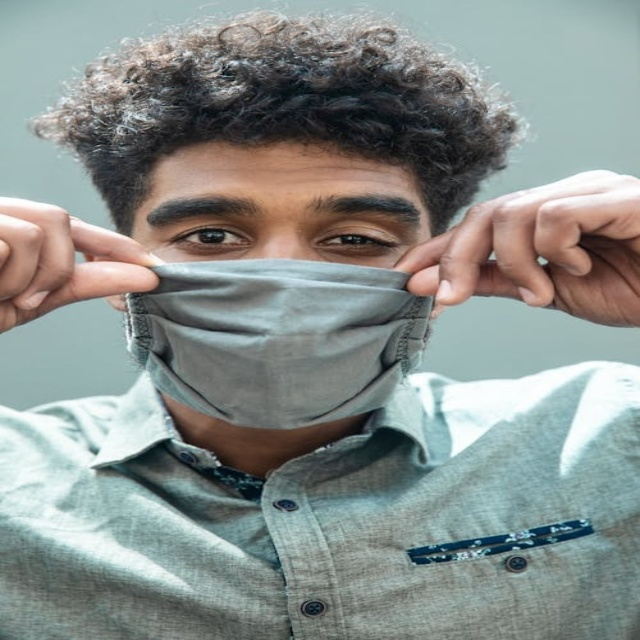Mascara: (122, 255, 437, 432)
Sin_gafas: (146, 185, 407, 253)
Sin_guantes: (386, 167, 639, 332), (0, 192, 164, 348)
